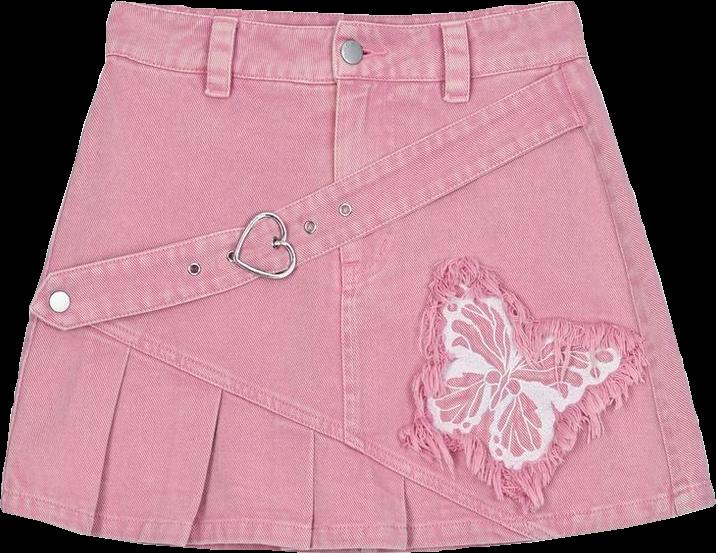Hemline: (0, 507, 533, 552)
Waistline: (34, 295, 534, 542), (105, 54, 589, 87), (114, 0, 563, 35)
